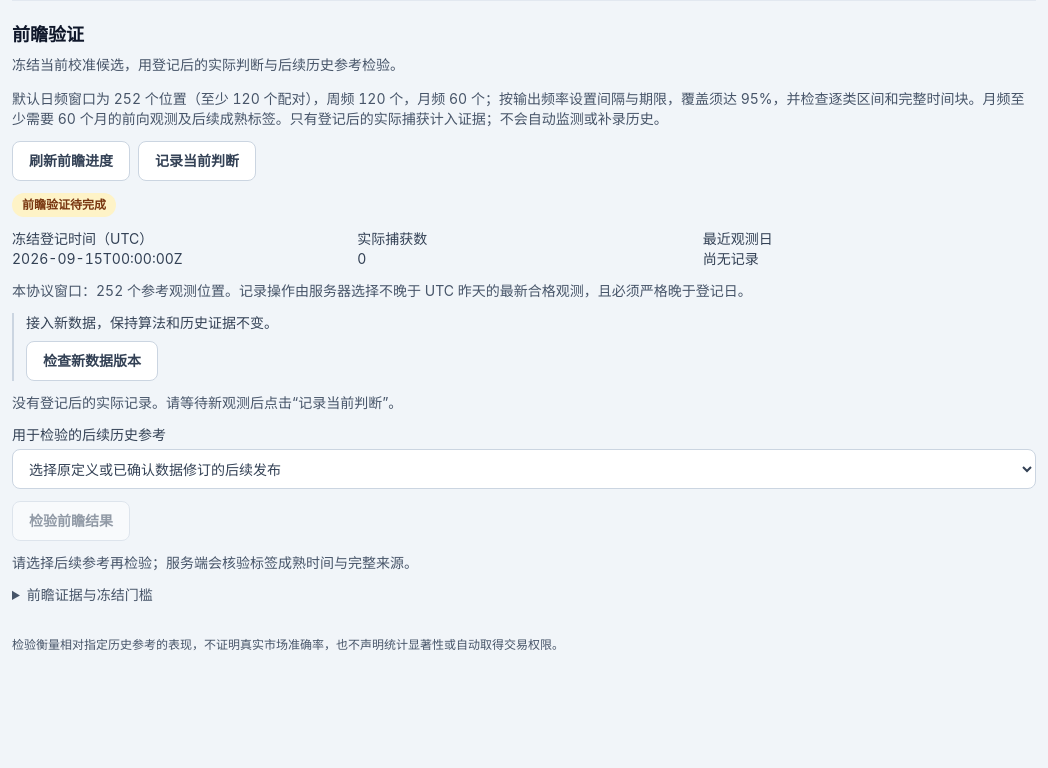
Test case: 前瞻验证 › capture explains no_post_registration_day in Chinese with next action
Expected: the button "刷新前瞻进度" is enabled, x1=12 y1=141 x2=130 y2=181
Click the button "记录当前判断" at {"x": 197, "y": 161}, box x1=138 y1=141 x2=256 y2=181
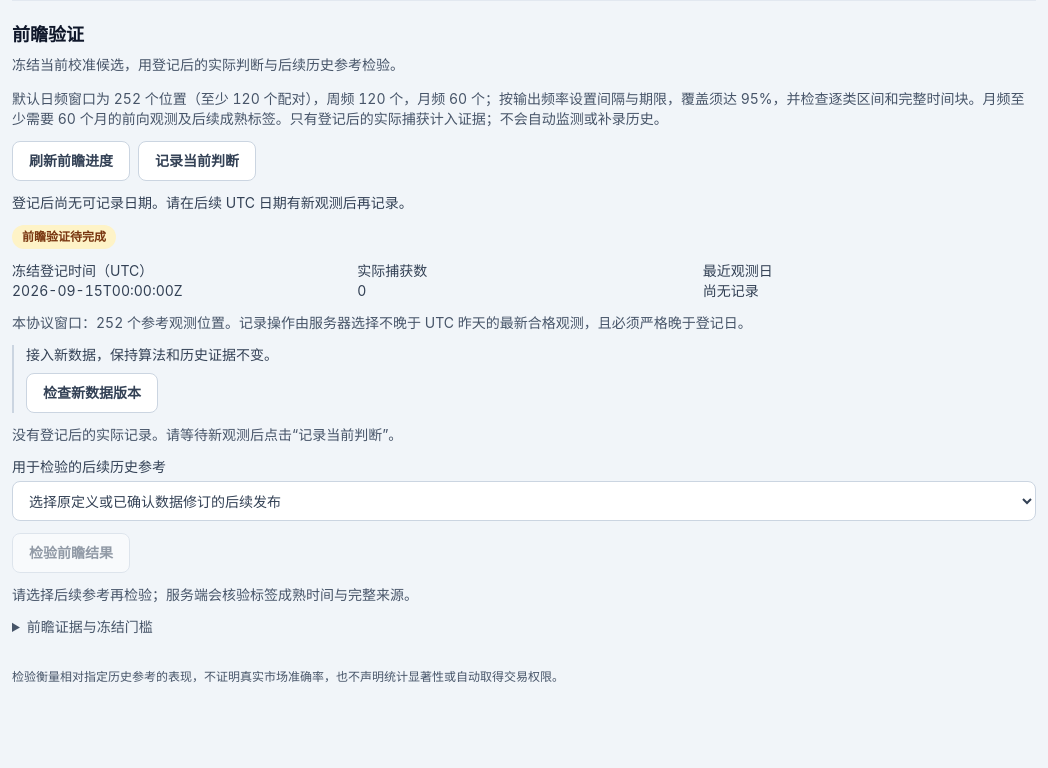
Result: the text "登记后尚无可记录日期。请在后续 UTC 日期有新观测后再记录。" is shown at x1=12 y1=194 x2=413 y2=211
